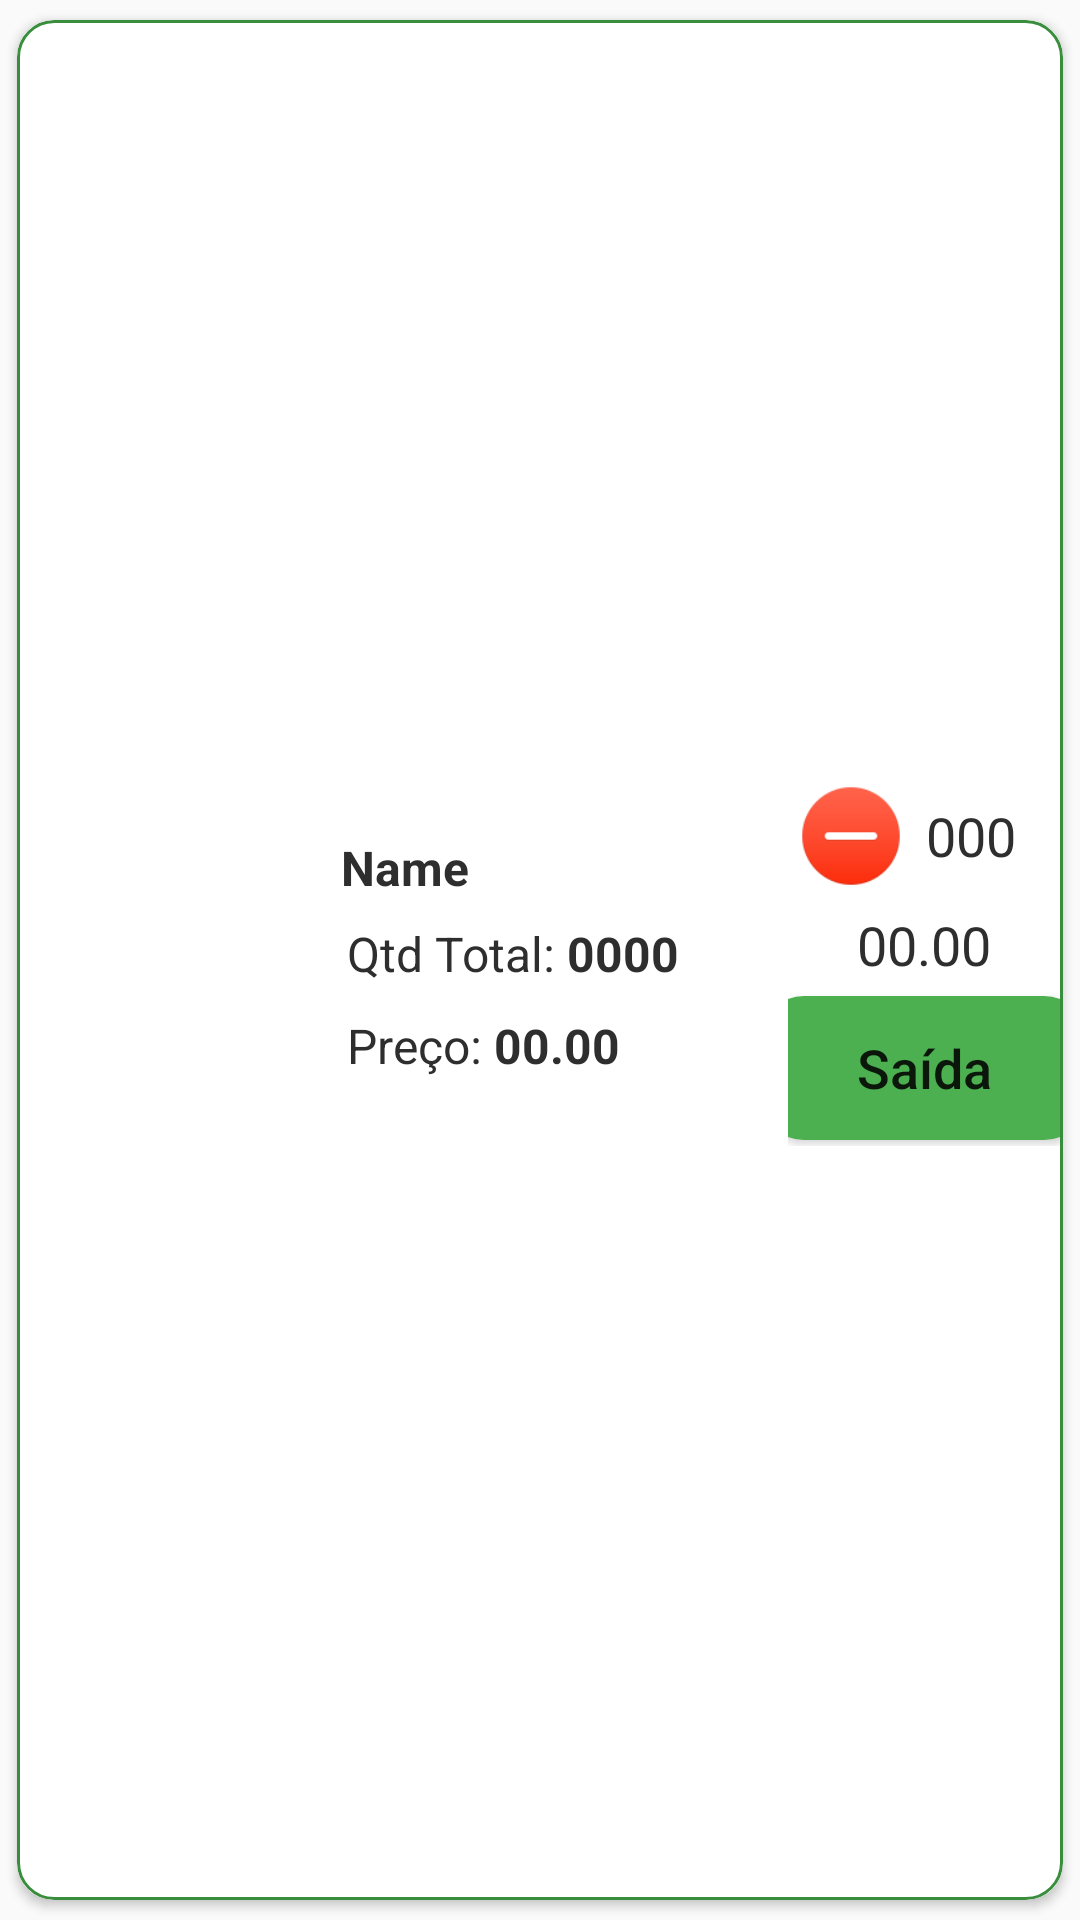

Icons on this 1080w x 1920h Android screen, each with the point to tap as point (x, y):
menos: point (851, 836)
